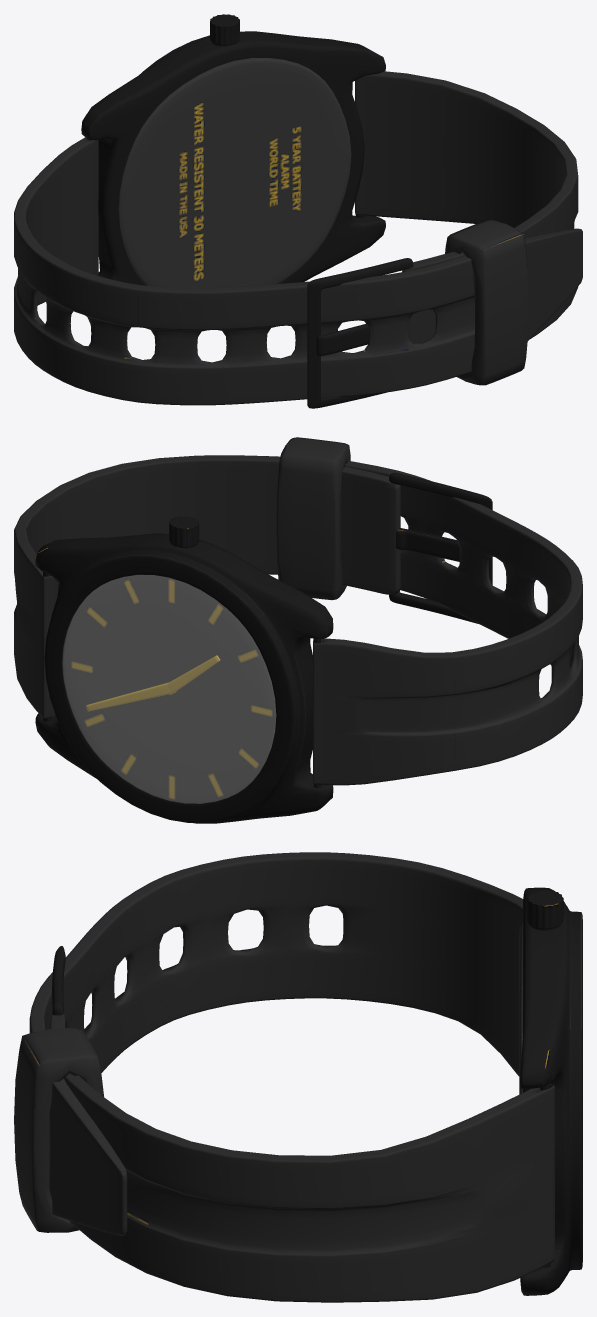
The model's file is watch 2.glb.
The picture shows the model from 3 angles, top to bottom: view 1: azimuth 30°, elevation 25°; view 2: azimuth 150°, elevation 25°; view 3: azimuth 270°, elevation 25°; orthographic projection. The views are drawn at different scales.
Parts seen in each view (by area): view 1: Watch 2_b; view 2: Watch 2_b; view 3: Watch 2_b.
Part boxes in pixels (x1,y1,x2,y2): Watch 2_b: (14,14,582,408); Watch 2_b: (14,437,582,823); Watch 2_b: (14,852,582,1302).
Bounding box in the file's own units: 0.4724 × 0.2568 × 0.3659.
Materials: 2 (1 with a texture image).
